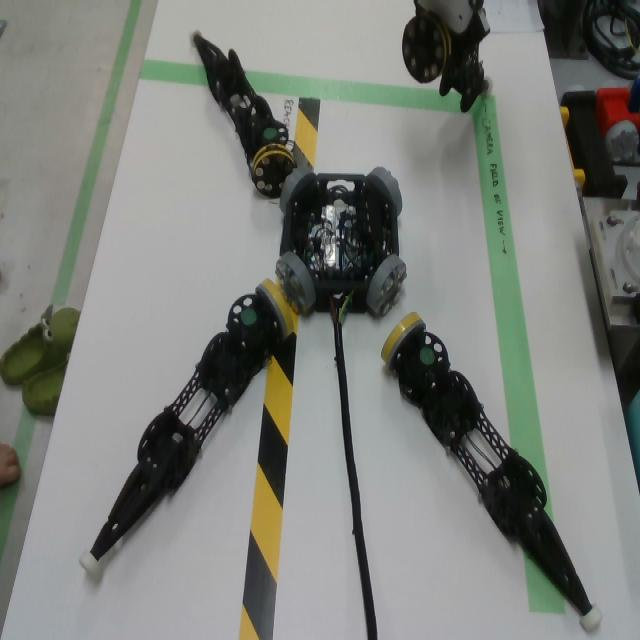body: (281, 173, 399, 315)
body_connector: (275, 252, 317, 317), (366, 255, 408, 316), (367, 167, 403, 217), (279, 168, 316, 213)
gripper: (413, 0, 490, 56)
leg: (381, 311, 604, 633), (79, 277, 293, 575), (187, 27, 297, 199), (402, 13, 494, 113)
leg_connector: (402, 12, 452, 84), (380, 312, 426, 371), (251, 143, 296, 199), (255, 279, 295, 341)
leg_marker: (241, 308, 256, 325), (421, 348, 434, 364), (264, 128, 277, 139)
